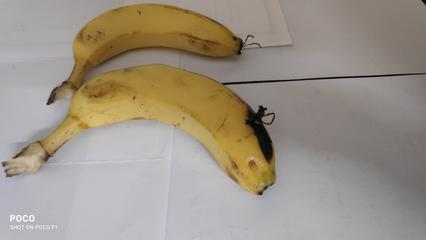banana: (71, 73, 291, 203), (70, 4, 249, 66)
